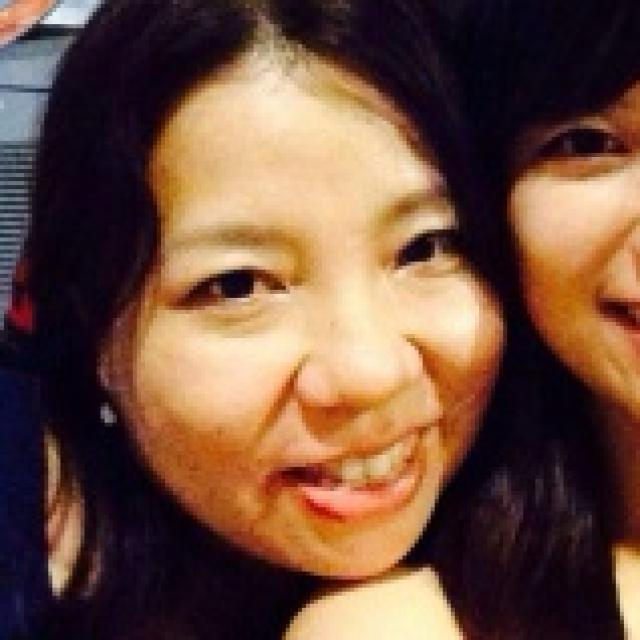Normal: (117, 34, 510, 575)
